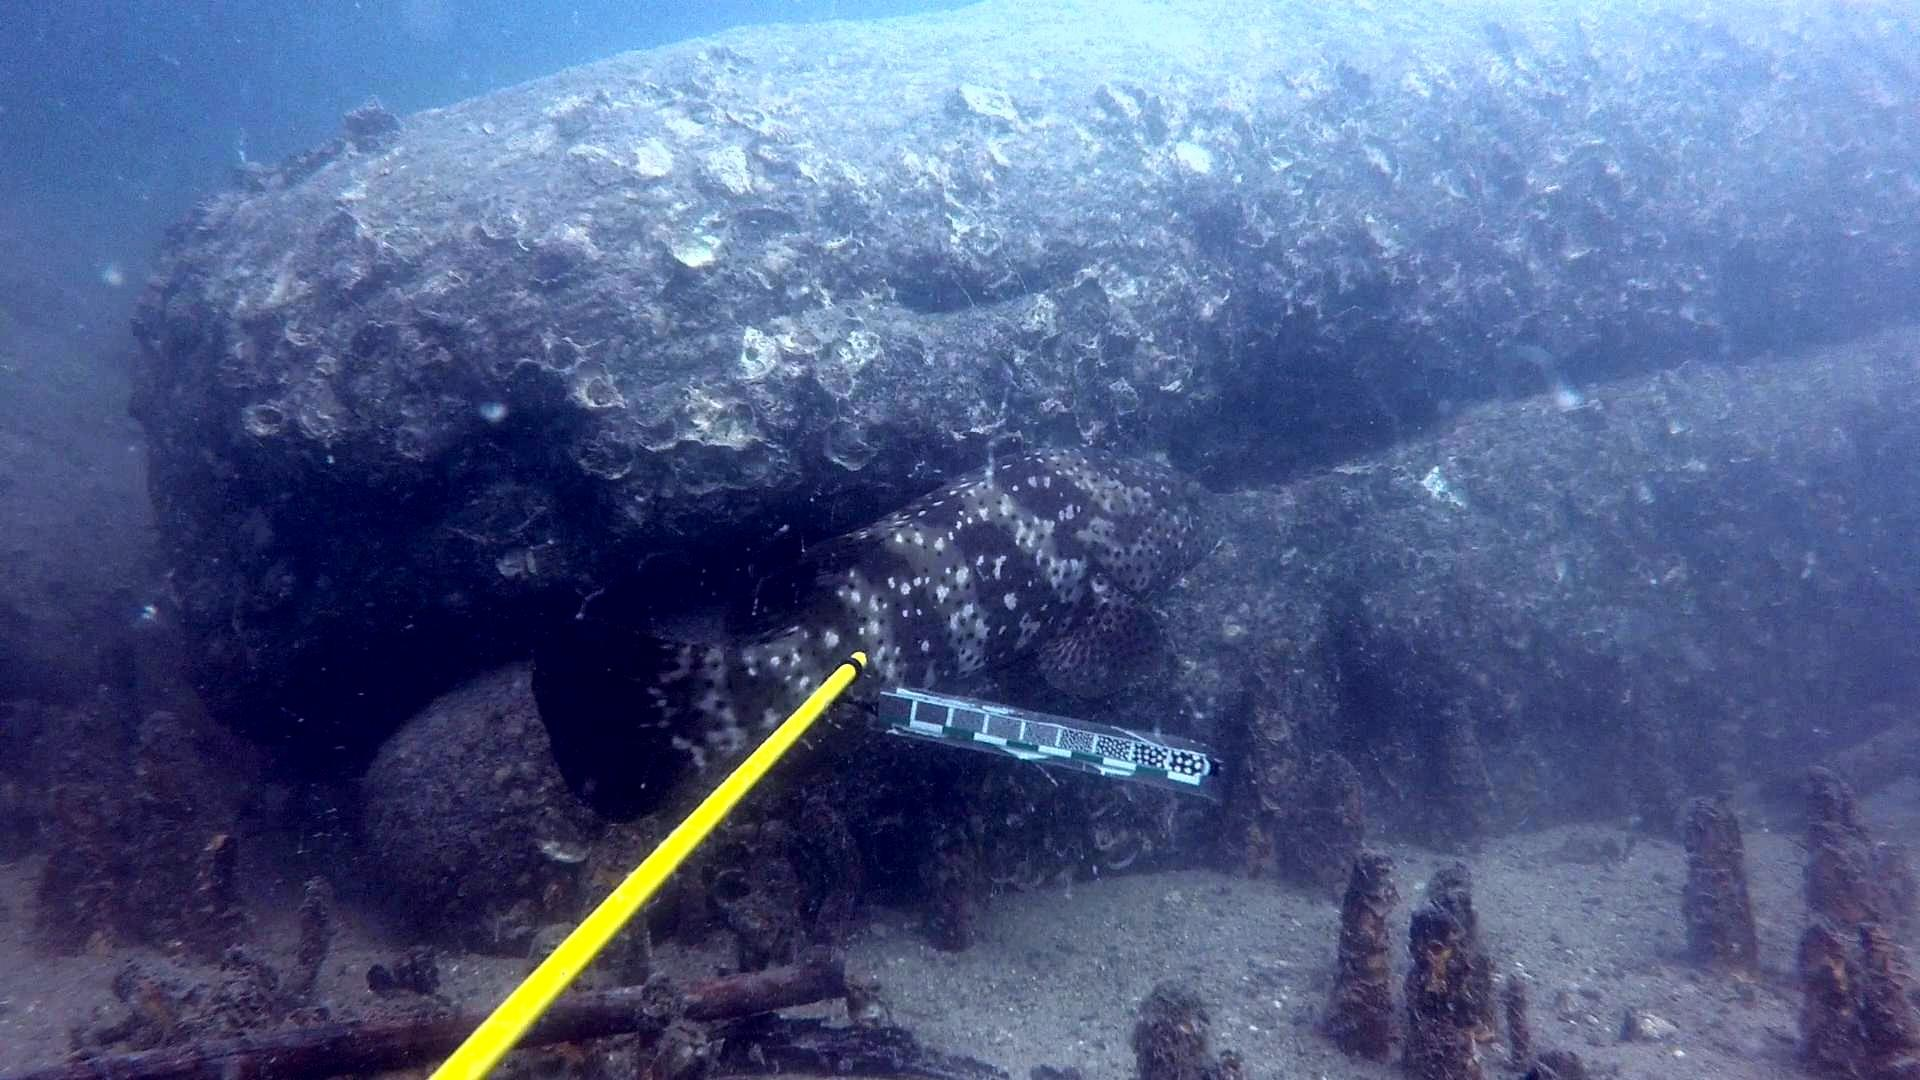epinephelus: (527, 442, 1234, 827)
